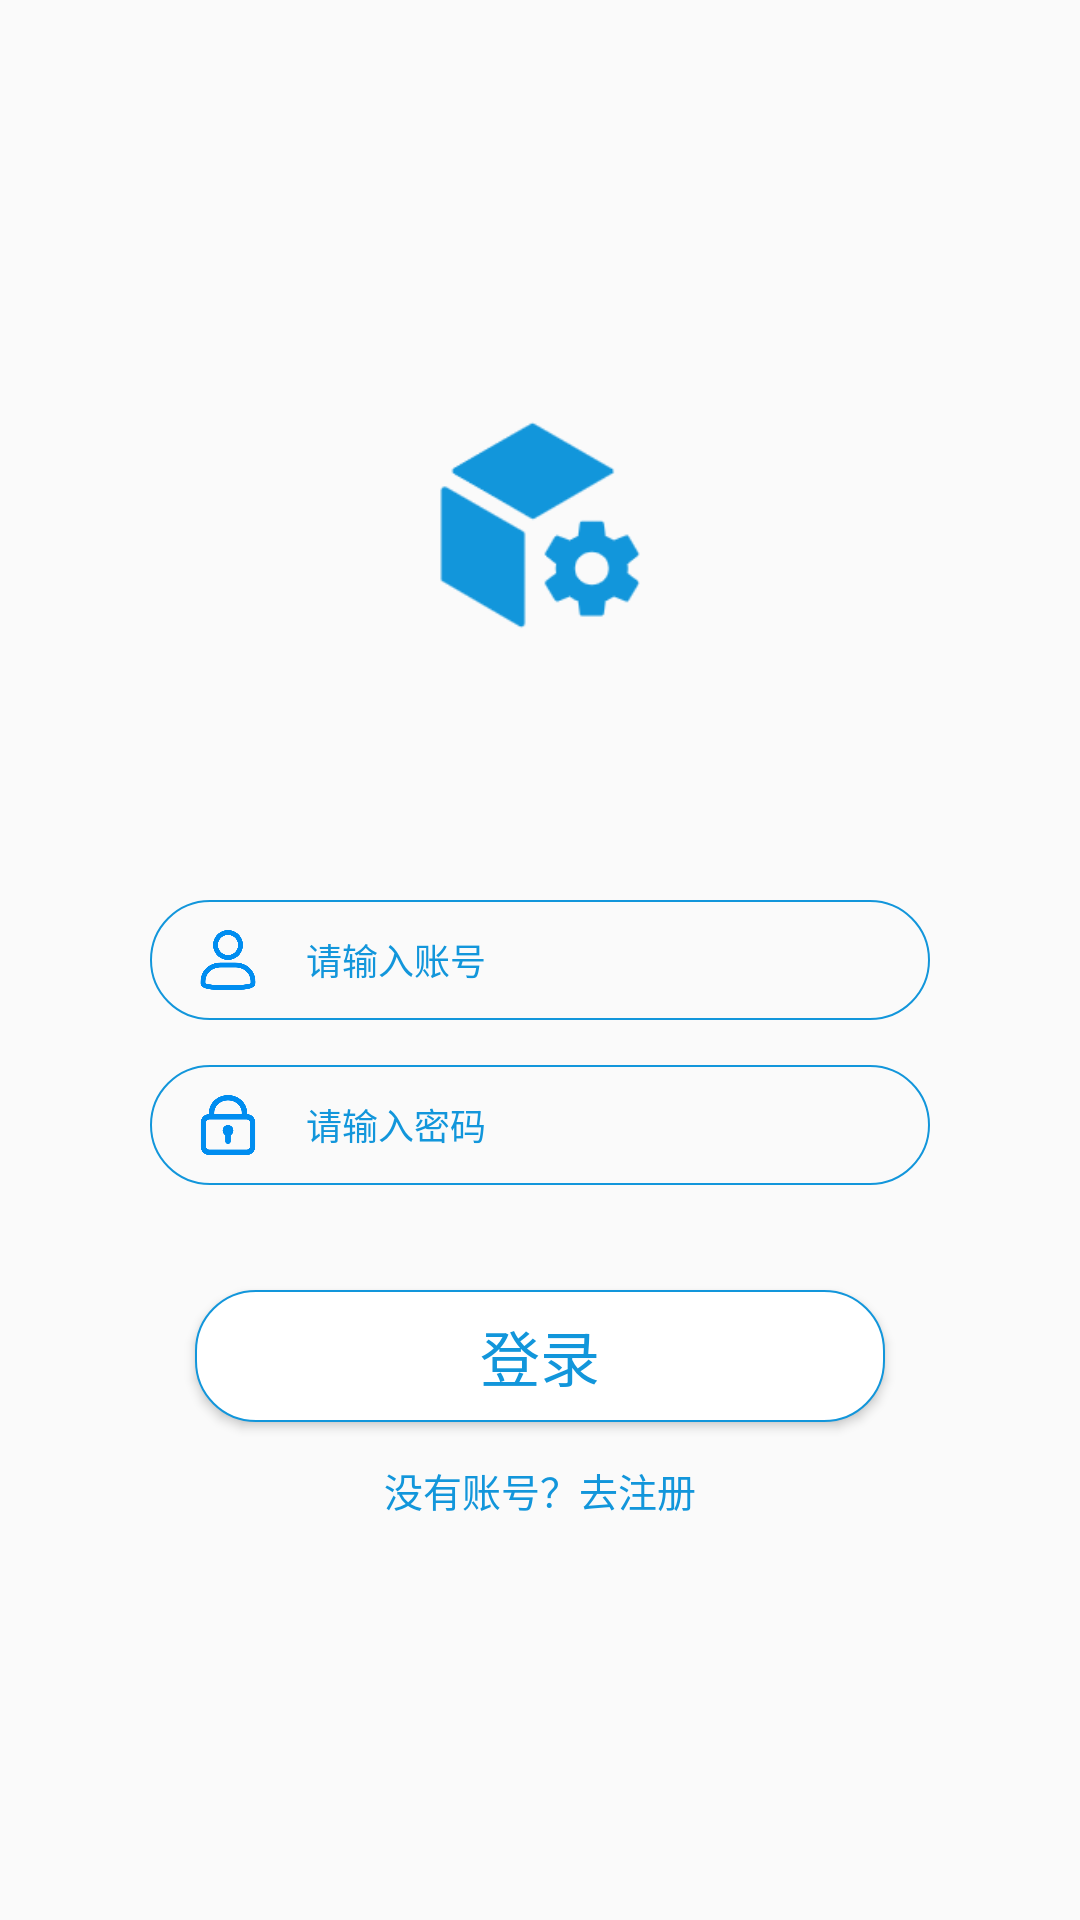

Icon click points for this 1080px×1920px phone screenshot, format point (x, y):
password: point (228, 1125)
